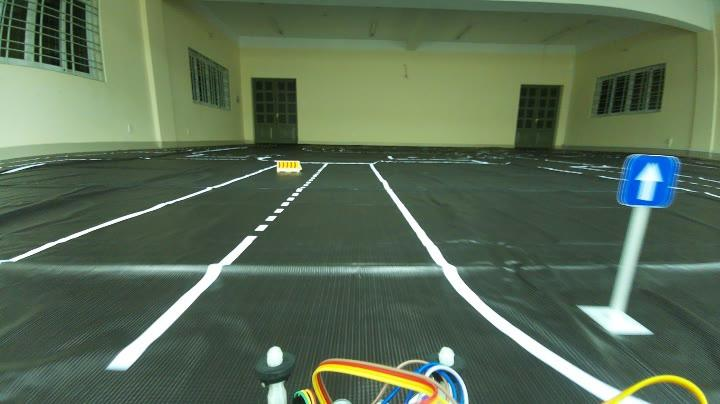onewayroad: (620, 155, 680, 211)
roadblock: (274, 158, 304, 180)
